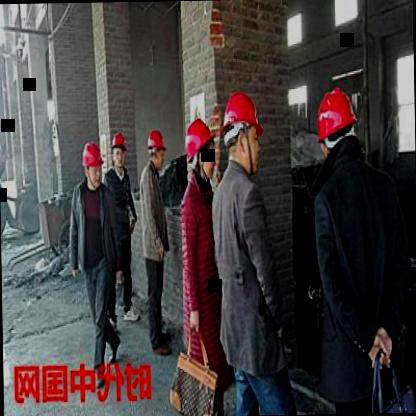helmet: (221, 84, 266, 172), (316, 81, 361, 158), (186, 113, 212, 177), (80, 138, 102, 186), (111, 126, 128, 171), (146, 126, 166, 164)
